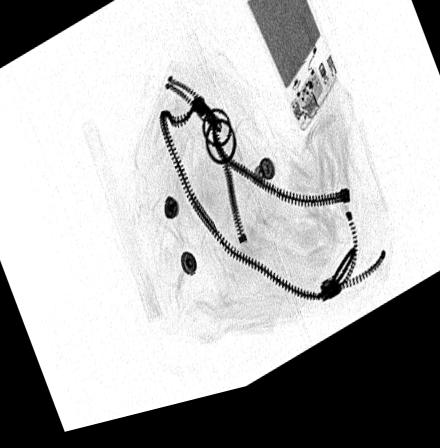Powerbank: (240, 0, 339, 145)
